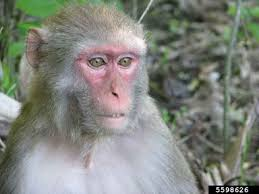monkey: (3, 0, 232, 167)
